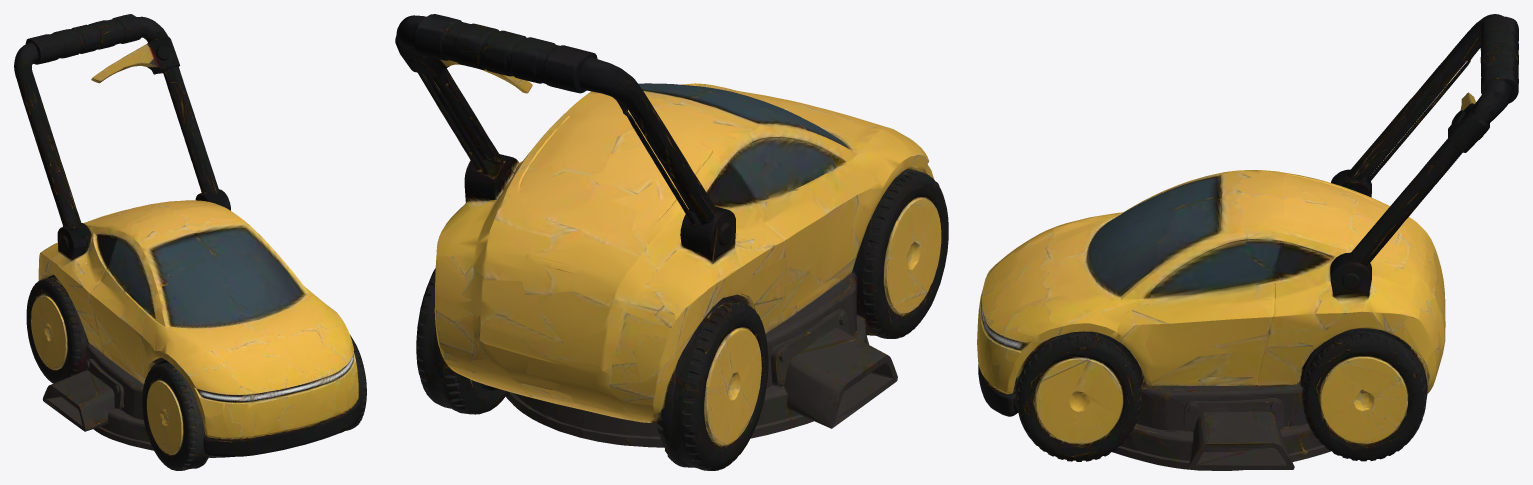
File: mower.glb
3 views of the same model, side by side, from view 1: azimuth 30°, elevation 25°; view 2: azimuth 150°, elevation 25°; view 3: azimuth 270°, elevation 25° (orthographic). The views are drawn at different scales.
Size of the model in its own units: 0.498 by 0.5636 by 0.7597.
Materials: 1 (1 with a texture image).
